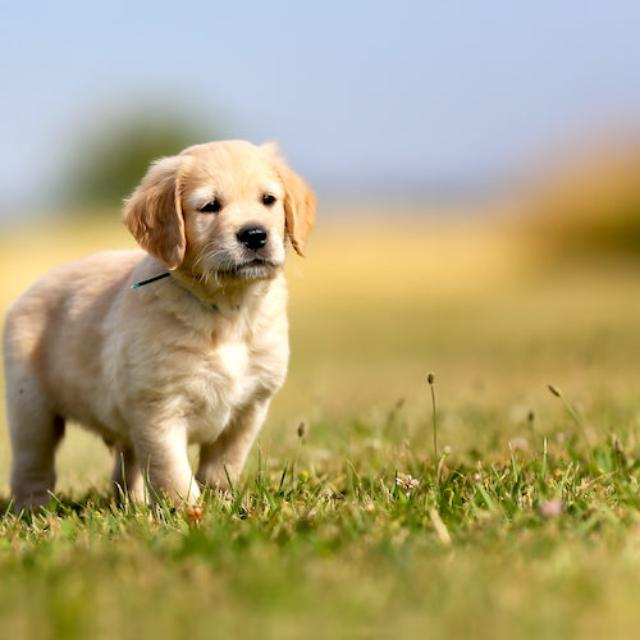dog: (5, 127, 339, 528)
